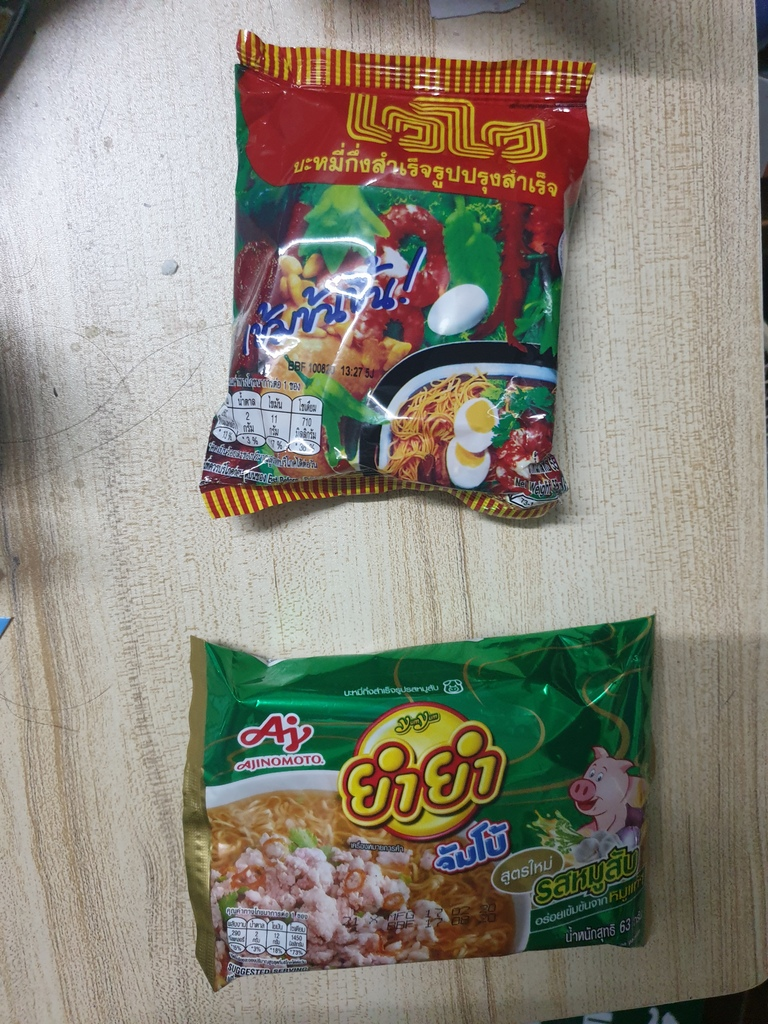waiwai: (223, 29, 578, 524)
yumyum: (170, 621, 683, 974)
